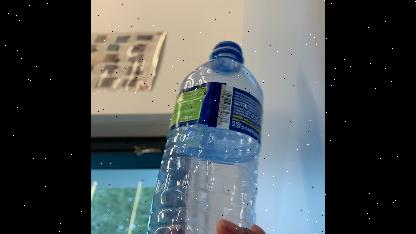Plastic Bottle: (143, 40, 263, 234)
